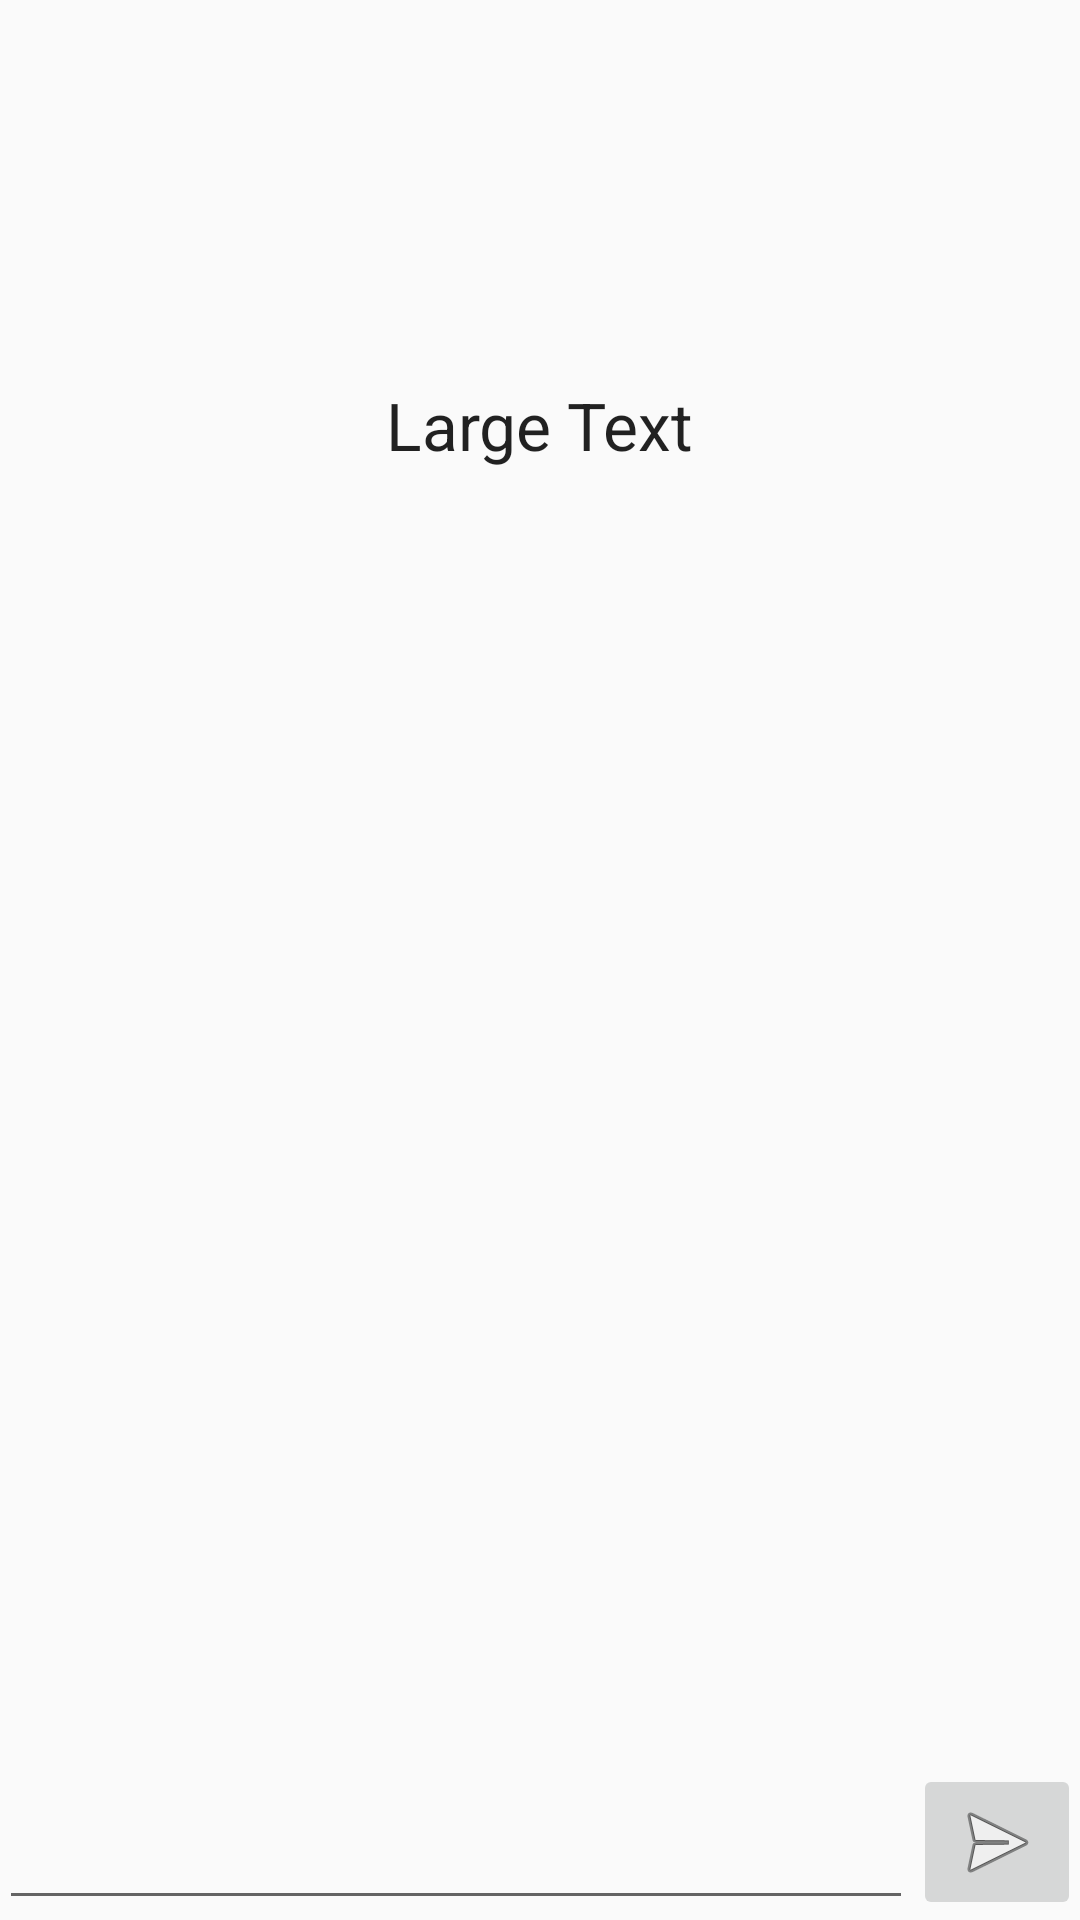

Screen size 1080×1920. Icon name, then its box in pixels as box=[x1, y1, x2, y2]:
send: box=[925, 1782, 1069, 1902]
